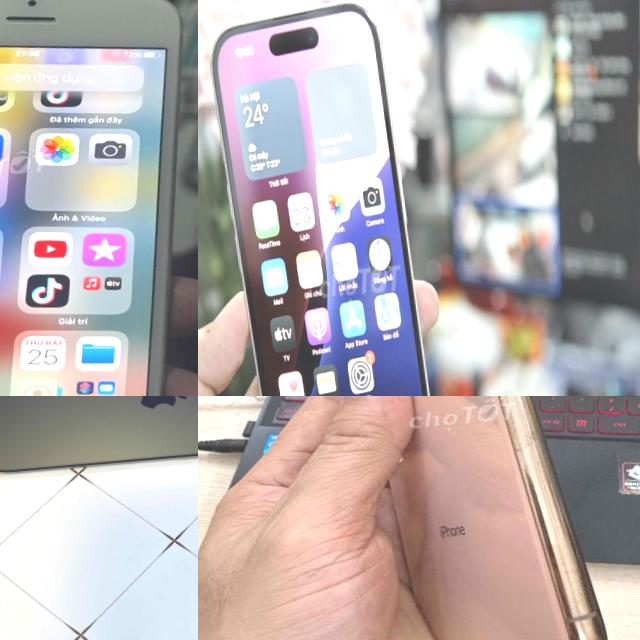gen_15: (0, 396, 198, 495)
gen_16: (198, 0, 451, 396)
gen_6: (0, 0, 198, 396)
gen_x_xs: (275, 396, 640, 640)
